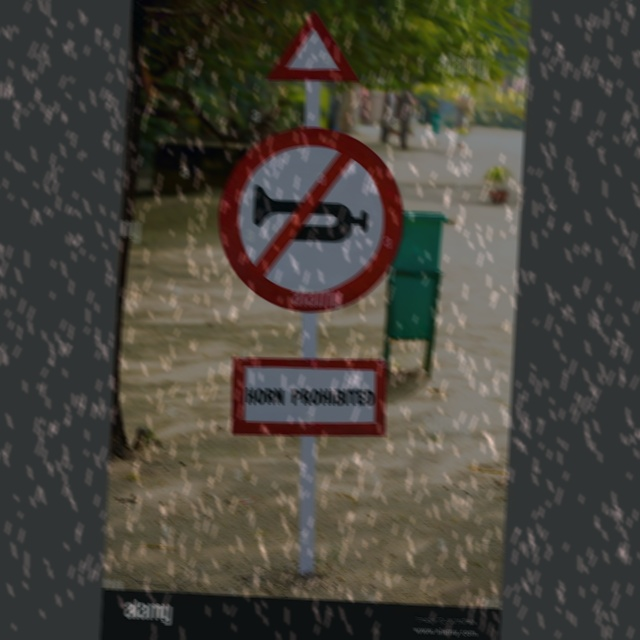Horn_Prohibited: (219, 124, 403, 318)
